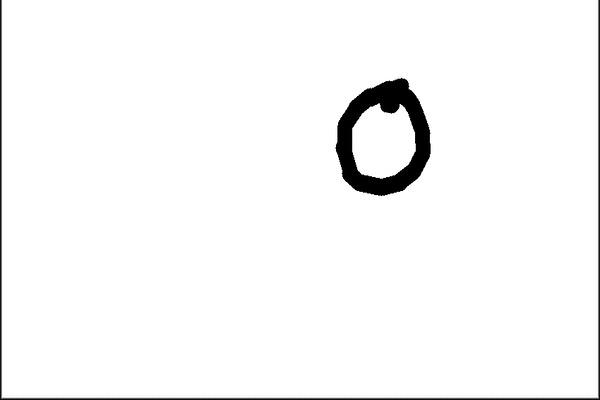O: (327, 73, 442, 204)
